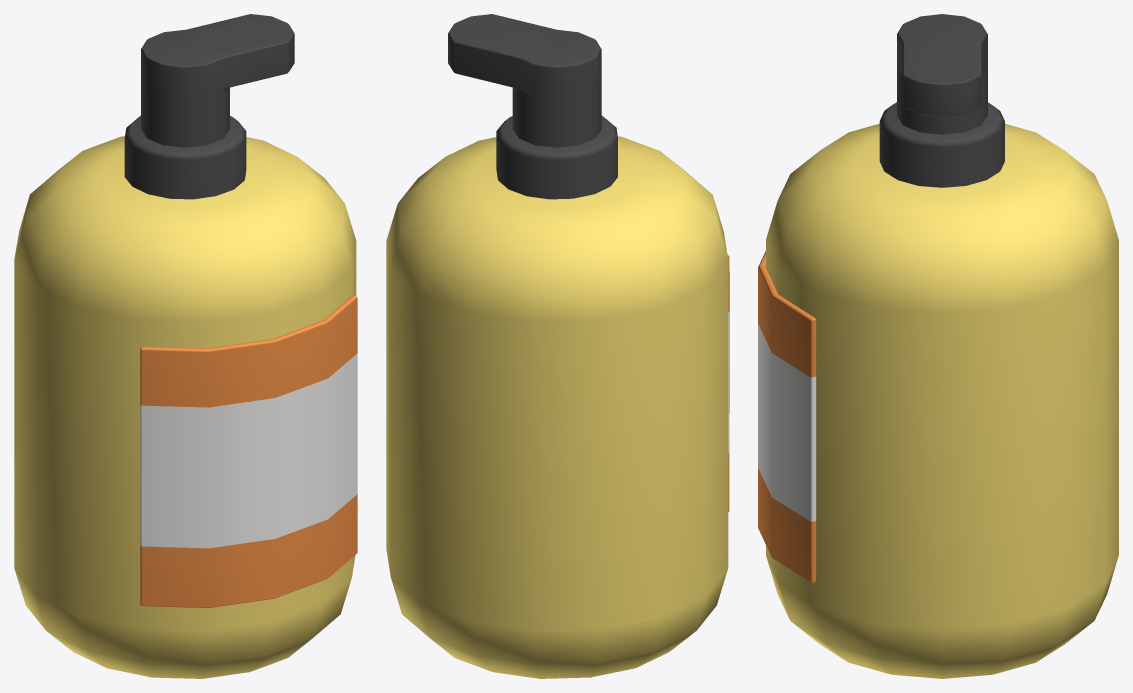
The model's file is Bottle_2.glb.
3 renders of one model, left to right at view 1: azimuth 30°, elevation 25°; view 2: azimuth 150°, elevation 25°; view 3: azimuth 270°, elevation 25°, orthographic. The views are drawn at different scales.
Parts seen in each view (by area): view 1: Bottle_22; view 2: Bottle_22; view 3: Bottle_22.
Part boxes in pixels (x1=…): Bottle_22: x1=14, y1=14, x2=357, y2=678; Bottle_22: x1=386, y1=14, x2=729, y2=678; Bottle_22: x1=758, y1=14, x2=1118, y2=678.
Size of the model in its own units: 0.2031 by 0.3819 by 0.2076.
1 material, 1 textured.
